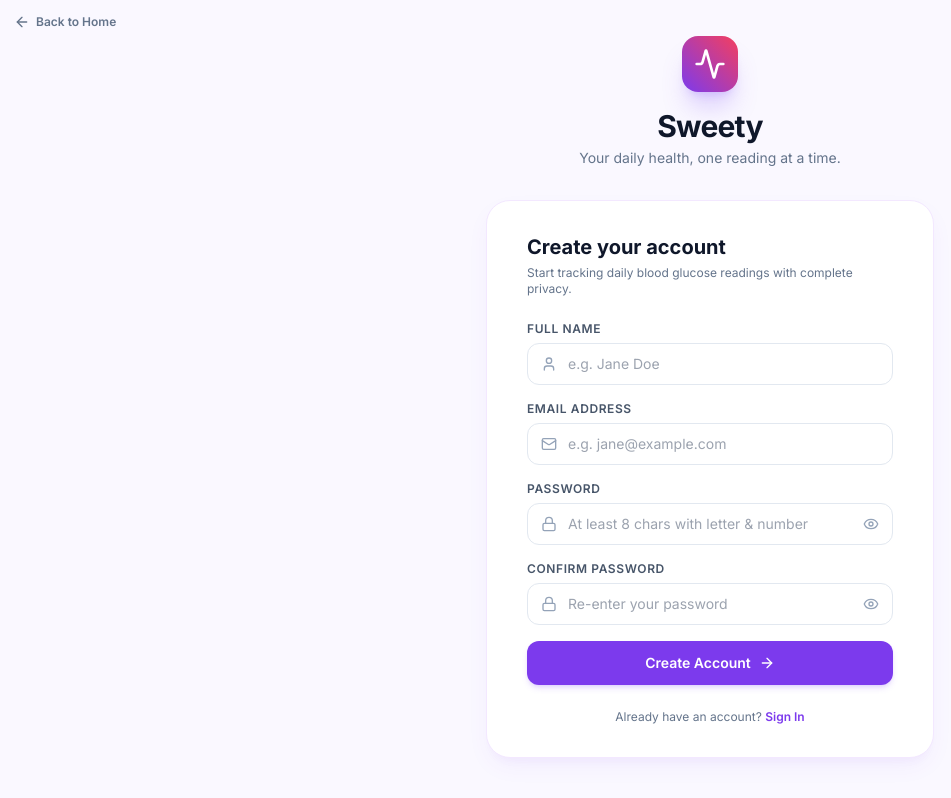
Test case: Authentication Pages Validation & Accessibility Tests › validates password matching on RegisterPage
The width and height of the screenshot is (951, 798).
Type "Jane Doe" into the field with placeholder "e.g. Jane Doe" at (710, 364), box [527,343,893,385]
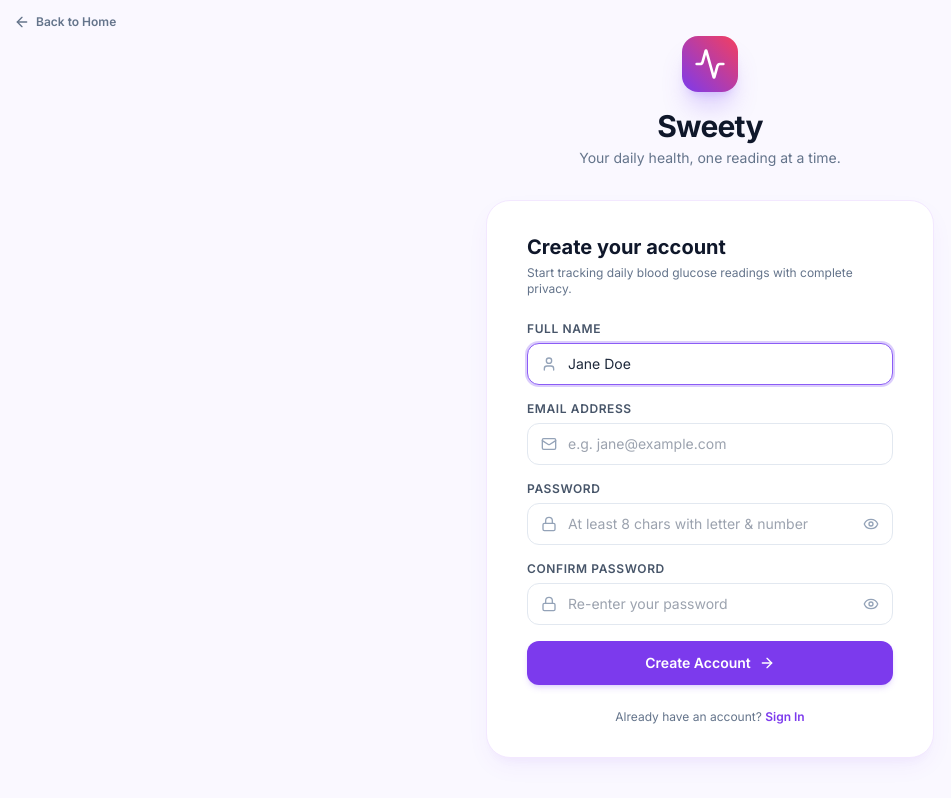
Type "jane@example.com" into the field with placeholder "e.g. jane@example.com" at (710, 444), box [527,423,893,465]
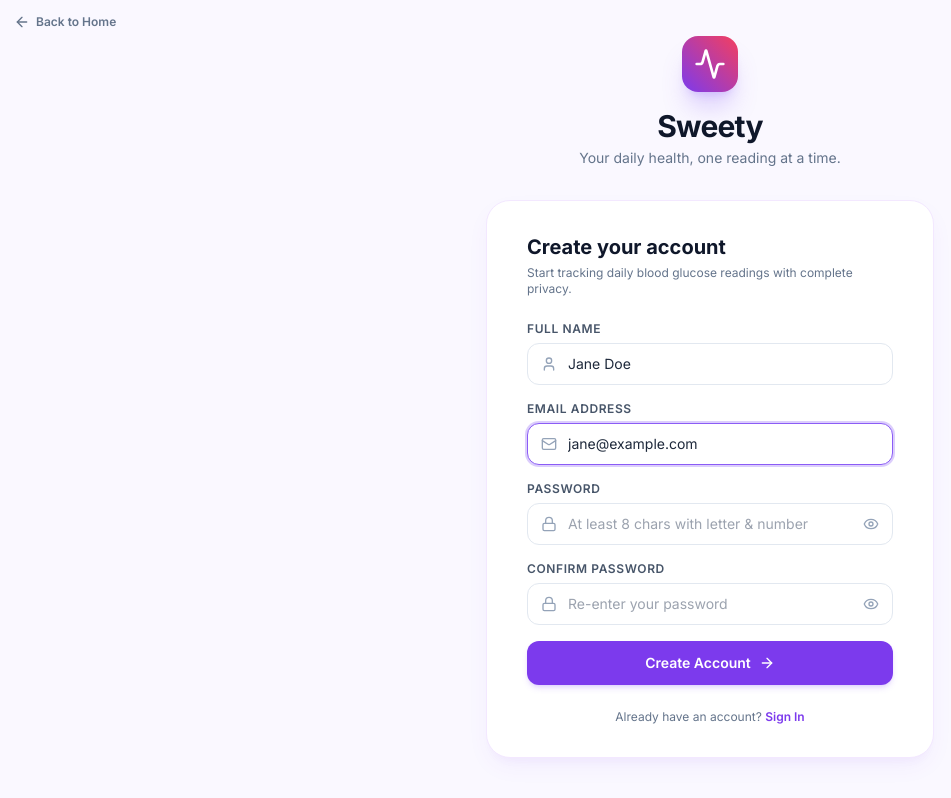
Type "ValidPass123" into the password field with placeholder "At least 8 chars with letter & number" at (710, 524), box [527,503,893,545]
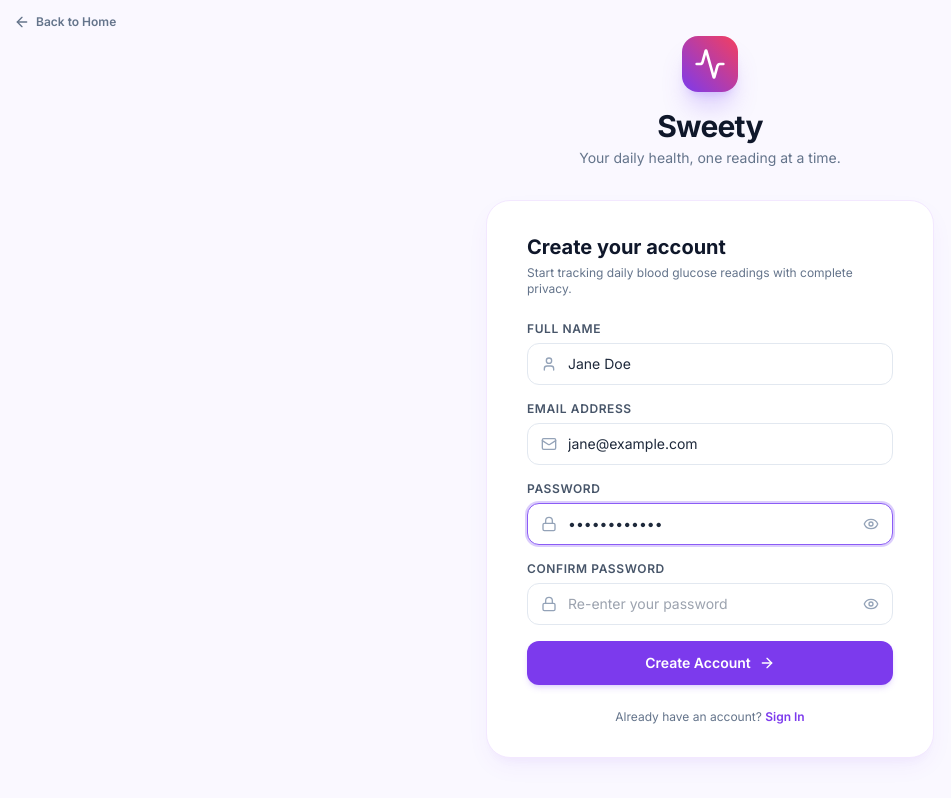
Type "DifferentPass456" into the password field with placeholder "Re-enter your password" at (710, 604), box [527,583,893,625]
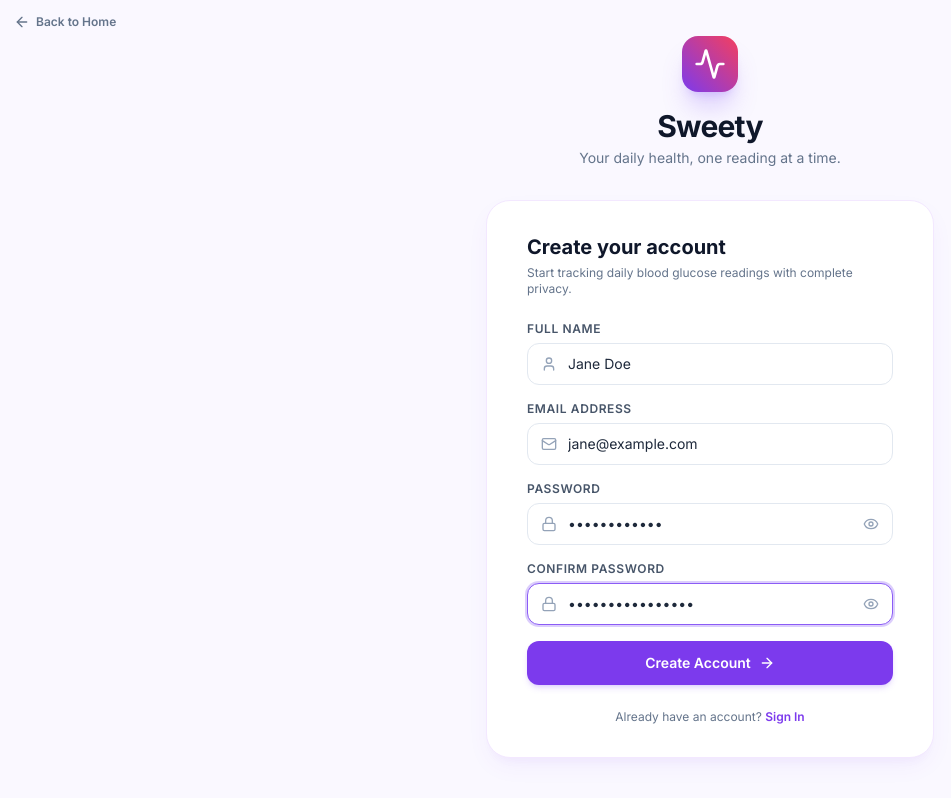
Click the button "Create Account" at (710, 663), box [527,641,893,685]
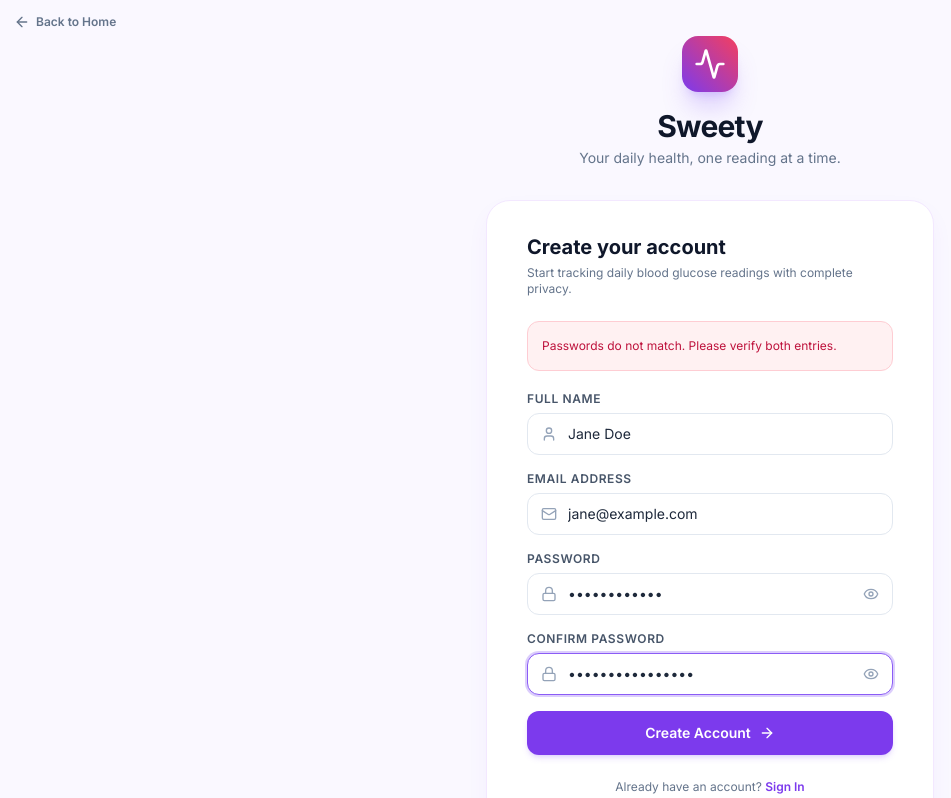
Expected: the text "Passwords do not match. Please verify both entries." is shown, [527,321,893,370]
